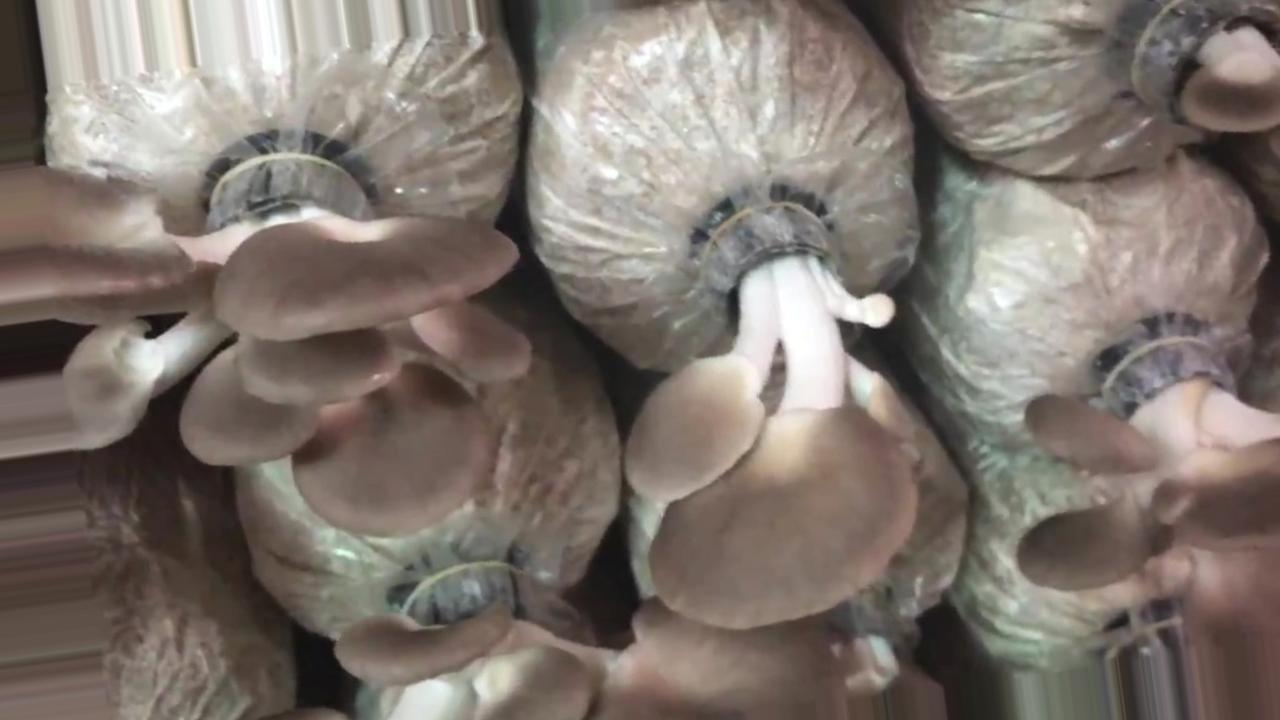nam: (1, 135, 535, 544), (628, 193, 927, 625), (1018, 339, 1280, 720), (331, 553, 942, 714), (1139, 2, 1280, 135)
